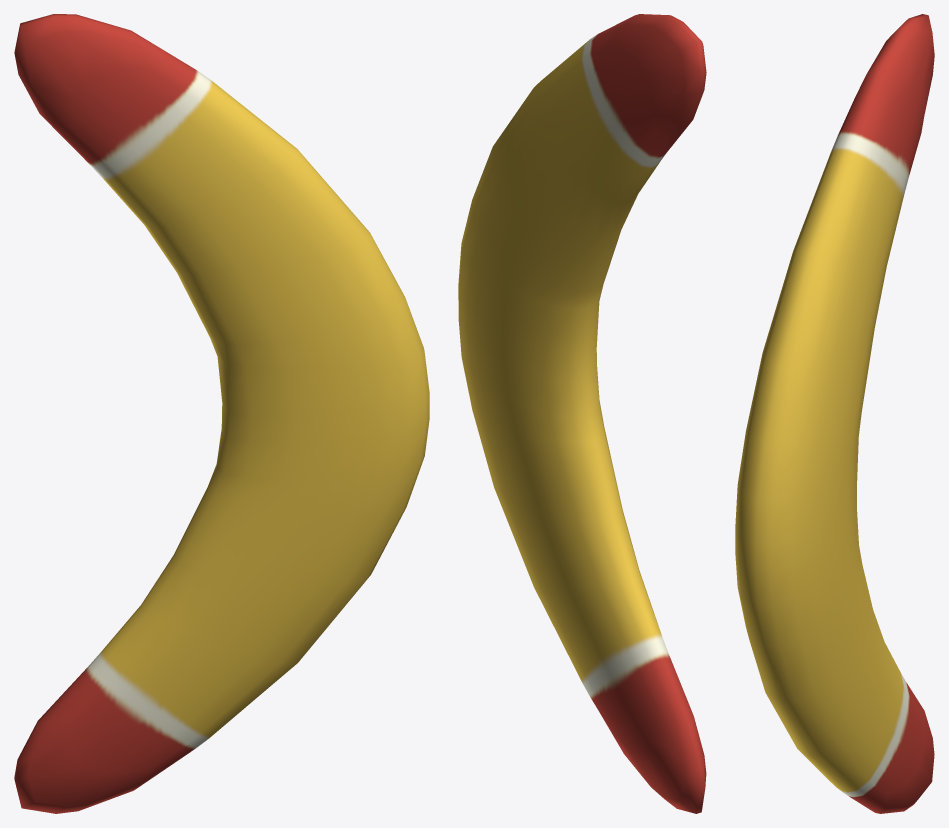
Rendered from boomerang.fbx.
3 views of the same model, side by side, from view 1: azimuth 30°, elevation 25°; view 2: azimuth 150°, elevation 25°; view 3: azimuth 270°, elevation 25° (orthographic).
Parts seen in each view (by area): view 1: boomerang; view 2: boomerang; view 3: boomerang.
Boxes of the visible parts, <box> form: boomerang: <box>14,14,429,813</box>; boomerang: <box>458,14,706,813</box>; boomerang: <box>735,14,934,813</box>.
Size of the model in its own units: 0.4327 by 1 by 0.2308.
